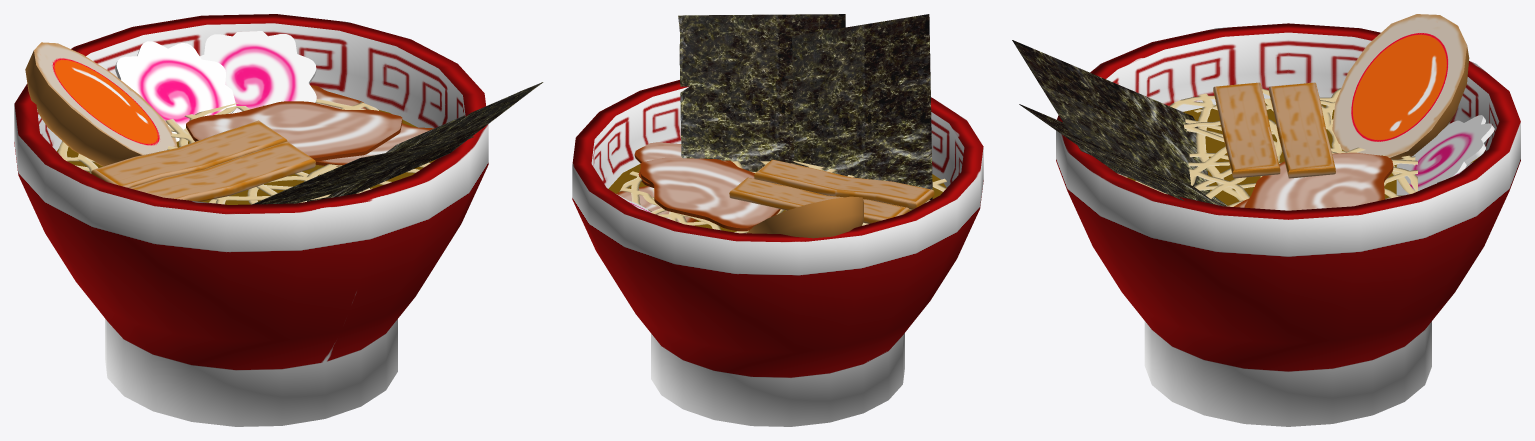
Rendered from ramen (1).fbx.
3 views of the same model, side by side, from view 1: azimuth 30°, elevation 25°; view 2: azimuth 150°, elevation 25°; view 3: azimuth 270°, elevation 25° (orthographic). The views are drawn at different scales.
Parts seen in each view (by area): view 1: Donburi, Naruto1, Azitama, menma6, tyasyu3, Donburi_nori_nori, men6, Soop; view 2: Donburi, Donburi_nori_nori, tyasyu3, menma6, Azitama, men6, Soop; view 3: Donburi, Azitama, Donburi_nori_nori, menma6, tyasyu3, men6, Naruto1, Soop.
Part boxes in pixels (x1,y1,x2,y2): Donburi: (14,14,488,426); Naruto1: (115,31,316,141); Azitama: (25,42,177,166); menma6: (91,120,315,201); tyasyu3: (186,85,433,166); Donburi_nori_nori: (252,82,543,204); men6: (57,99,430,204); Soop: (57,109,436,204); Donburi: (572,80,983,426); Donburi_nori_nori: (678,14,932,199); tyasyu3: (616,142,780,231); menma6: (729,159,934,223); Azitama: (747,196,864,238); men6: (619,161,946,233); Soop: (608,164,946,232); Donburi: (1056,23,1520,426); Azitama: (1332,14,1469,159); Donburi_nori_nori: (1012,40,1227,206); menma6: (1213,82,1335,178); tyasyu3: (1234,152,1393,210); men6: (1117,85,1417,206); Naruto1: (1396,115,1494,195); Soop: (1127,103,1478,205).
Bounding box in the file's own units: 1.63 × 1.2 × 1.78.
